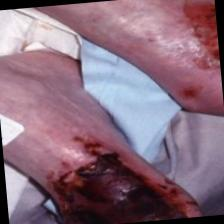wound-ulser: (37, 133, 196, 224), (178, 0, 223, 95)
